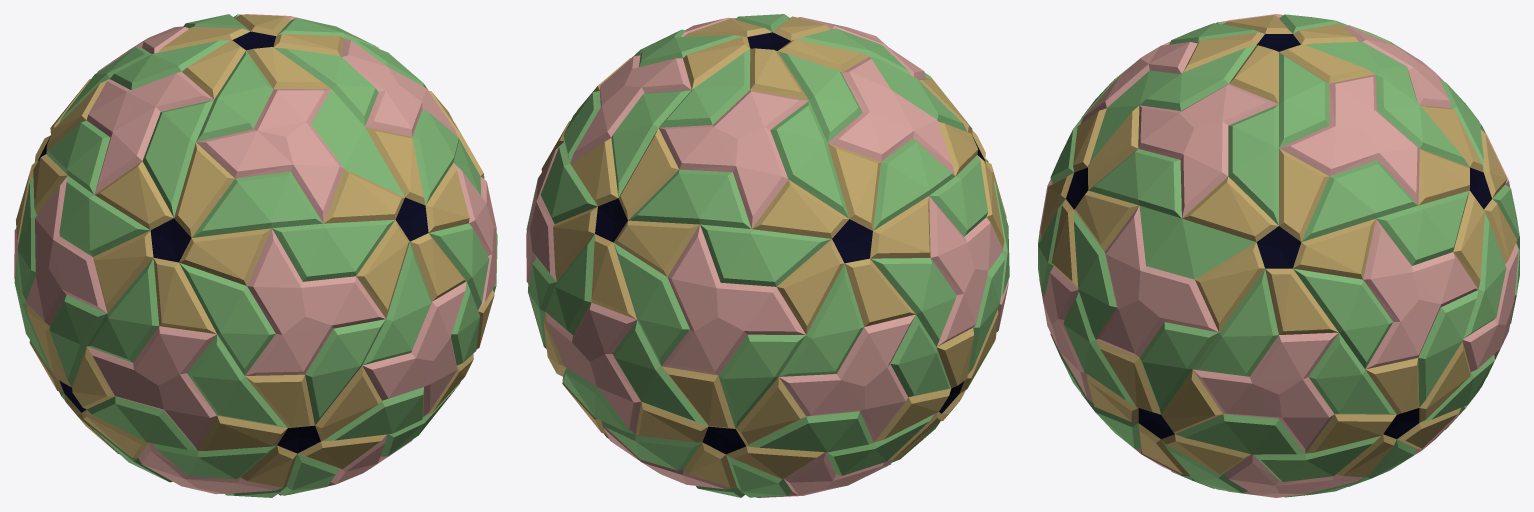
Rendered from DENGUE_virus.fbx.
3 views of the same model, side by side, from view 1: azimuth 30°, elevation 25°; view 2: azimuth 150°, elevation 25°; view 3: azimuth 270°, elevation 25° (orthographic).
Parts seen in each view (by area): view 1: DENGUE_Object036, DENGUE_Object025, DENGUE_Object027, DENGUE_Object024, DENGUE_Object035, DENGUE_Object032, DENGUE_Object033, DENGUE_Object022, DENGUE_Object031, DENGUE_Object037, DENGUE_Object042, DENGUE_Object030 (+6 smaller); view 2: DENGUE_Object041, DENGUE_Object039, DENGUE_Object042, DENGUE_Object024, DENGUE_Object025, DENGUE_Object036, DENGUE_Object040, DENGUE_Object038, DENGUE_Object022; view 3: DENGUE_Object040, DENGUE_Object029, DENGUE_Object024, DENGUE_Object037, DENGUE_Object041, DENGUE_Object030, DENGUE_Object028, DENGUE_Object023, DENGUE_Object027, DENGUE_Object042, DENGUE_Object034, DENGUE_Object022 (+5 smaller).
Part boxes in pixels (x1,y1,x2,y2): DENGUE_Object036: (14,176,287,479); DENGUE_Object025: (46,50,273,333); DENGUE_Object027: (323,127,469,318); DENGUE_Object024: (157,14,427,126); DENGUE_Object035: (198,366,386,487); DENGUE_Object032: (192,171,394,281); DENGUE_Object033: (245,229,385,375); DENGUE_Object022: (196,89,343,223); DENGUE_Object031: (305,242,431,425); DENGUE_Object037: (225,289,494,497); DENGUE_Object042: (16,26,229,243); DENGUE_Object030: (429,163,496,365); DENGUE_Object041: (540,91,831,426); DENGUE_Object039: (635,264,933,497); DENGUE_Object042: (659,51,930,334); DENGUE_Object024: (570,14,868,197); DENGUE_Object025: (796,28,1006,248); DENGUE_Object036: (870,158,1009,459); DENGUE_Object040: (526,144,702,470); DENGUE_Object038: (601,420,940,497); DENGUE_Object022: (797,17,926,79); DENGUE_Object040: (1293,213,1518,477); DENGUE_Object029: (1140,148,1375,453); DENGUE_Object024: (1140,15,1469,225); DENGUE_Object037: (1050,333,1380,497); DENGUE_Object041: (1301,81,1519,323); DENGUE_Object030: (1063,206,1218,405); DENGUE_Object028: (1088,149,1256,279); DENGUE_Object023: (1138,84,1278,217); DENGUE_Object027: (1040,106,1139,288); DENGUE_Object042: (1279,14,1450,107); DENGUE_Object034: (1039,266,1093,403); DENGUE_Object022: (1081,41,1197,123).
Bounding box in the file's own units: 17.67 × 17.55 × 17.62.
